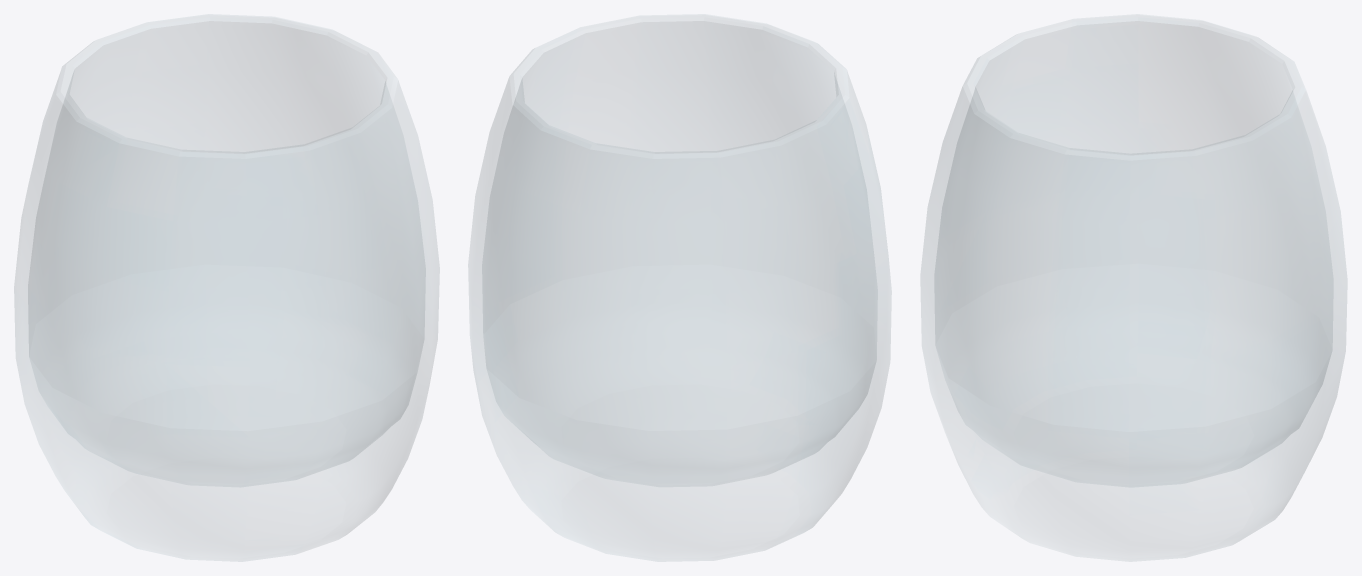
The model's file is glass 1.obj.
3 views of the same model, side by side, from view 1: azimuth 30°, elevation 25°; view 2: azimuth 150°, elevation 25°; view 3: azimuth 270°, elevation 25° (orthographic).
Parts seen in each view (by area): view 1: Mesh1 G_3DGeom_2 AI30_005_gadget_003_07 Model; view 2: Mesh1 G_3DGeom_2 AI30_005_gadget_003_07 Model; view 3: Mesh1 G_3DGeom_2 AI30_005_gadget_003_07 Model.
Part boxes in pixels (box(x1,y1,x2,y2)): Mesh1 G_3DGeom_2 AI30_005_gadget_003_07 Model: box(14, 14, 439, 561); Mesh1 G_3DGeom_2 AI30_005_gadget_003_07 Model: box(468, 14, 891, 561); Mesh1 G_3DGeom_2 AI30_005_gadget_003_07 Model: box(920, 14, 1347, 561).
Size of the model in its own units: 24.24 by 26.47 by 24.21.
Materials: 1 (1 with a texture image).
